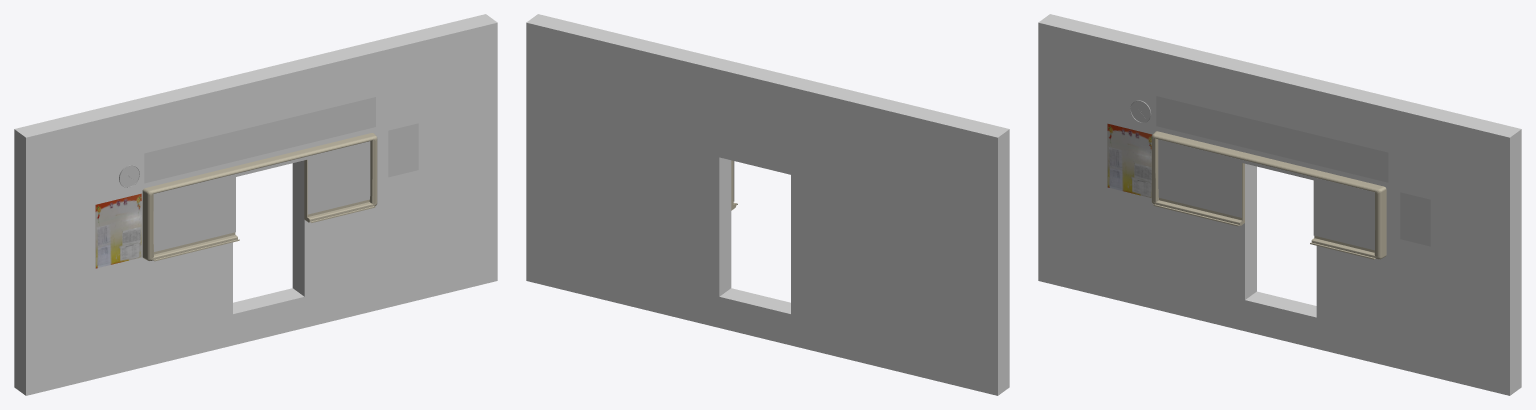
The model's file is 黑板中间下面开口_001.fbx.
3 renders of one model, left to right at view 1: azimuth 30°, elevation 25°; view 2: azimuth 150°, elevation 25°; view 3: azimuth 330°, elevation 25°, orthographic.
Visible parts, largest first — view 1: 立方体.059, 黑板 .003, 五星旗.002, 公告栏, 预防溺水; view 2: 立方体.059; view 3: 立方体.059, 黑板 .003, 五星旗.002, 公告栏, 预防溺水.
Boxes of the visible parts, left/top/right/bottom form: 立方体.059: left=14, top=14, right=497, bottom=395; 黑板 .003: left=142, top=133, right=377, bottom=261; 五星旗.002: left=144, top=97, right=375, bottom=183; 公告栏: left=95, top=193, right=141, bottom=268; 预防溺水: left=388, top=123, right=418, bottom=177; 立方体.059: left=526, top=14, right=1009, bottom=395; 立方体.059: left=1038, top=14, right=1521, bottom=395; 黑板 .003: left=1151, top=131, right=1386, bottom=259; 五星旗.002: left=1156, top=96, right=1388, bottom=182; 公告栏: left=1107, top=123, right=1151, bottom=197; 预防溺水: left=1400, top=192, right=1430, bottom=246.
Size of the model in its own units: 585 by 306 by 39.7.
